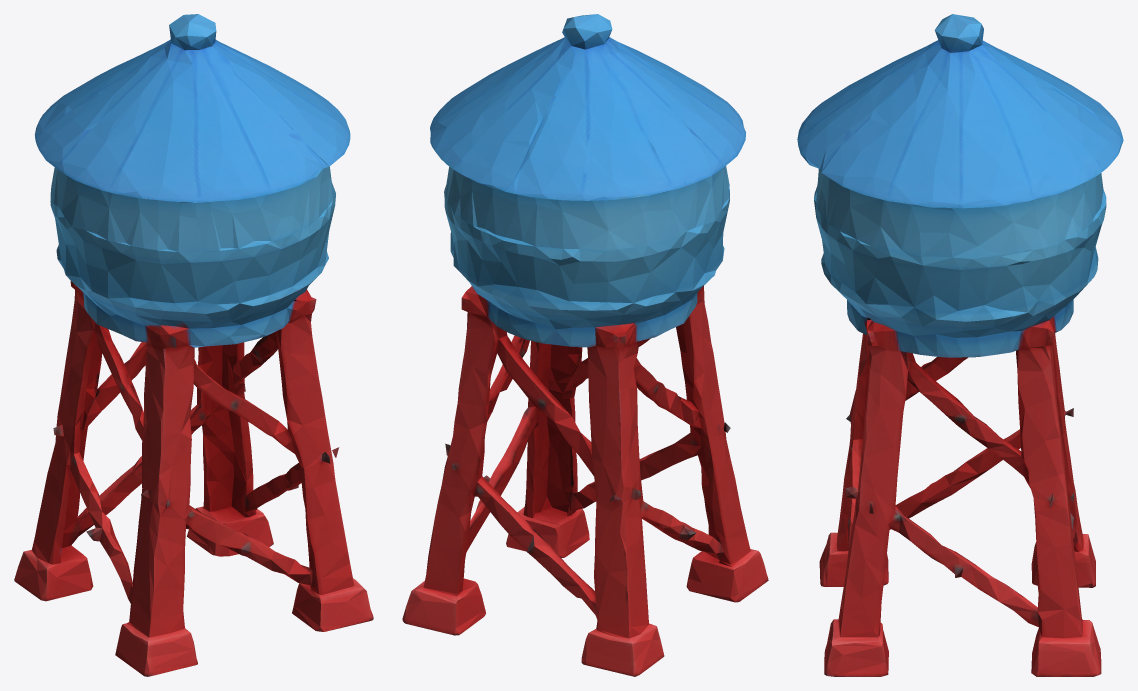
File: water_tower.glb
3 renders of one model, left to right at view 1: azimuth 30°, elevation 25°; view 2: azimuth 150°, elevation 25°; view 3: azimuth 270°, elevation 25°, orthographic. The views are drawn at different scales.
Visible parts, largest first — view 1: geometry_0; view 2: geometry_0; view 3: geometry_0.
Part boxes in pixels (x1=…): geometry_0: x1=14, y1=14, x2=373, y2=676; geometry_0: x1=402, y1=14, x2=768, y2=676; geometry_0: x1=797, y1=14, x2=1123, y2=676.
Size of the model in its own units: 0.4897 by 1 by 0.494.
Materials: 1 (1 with a texture image).
